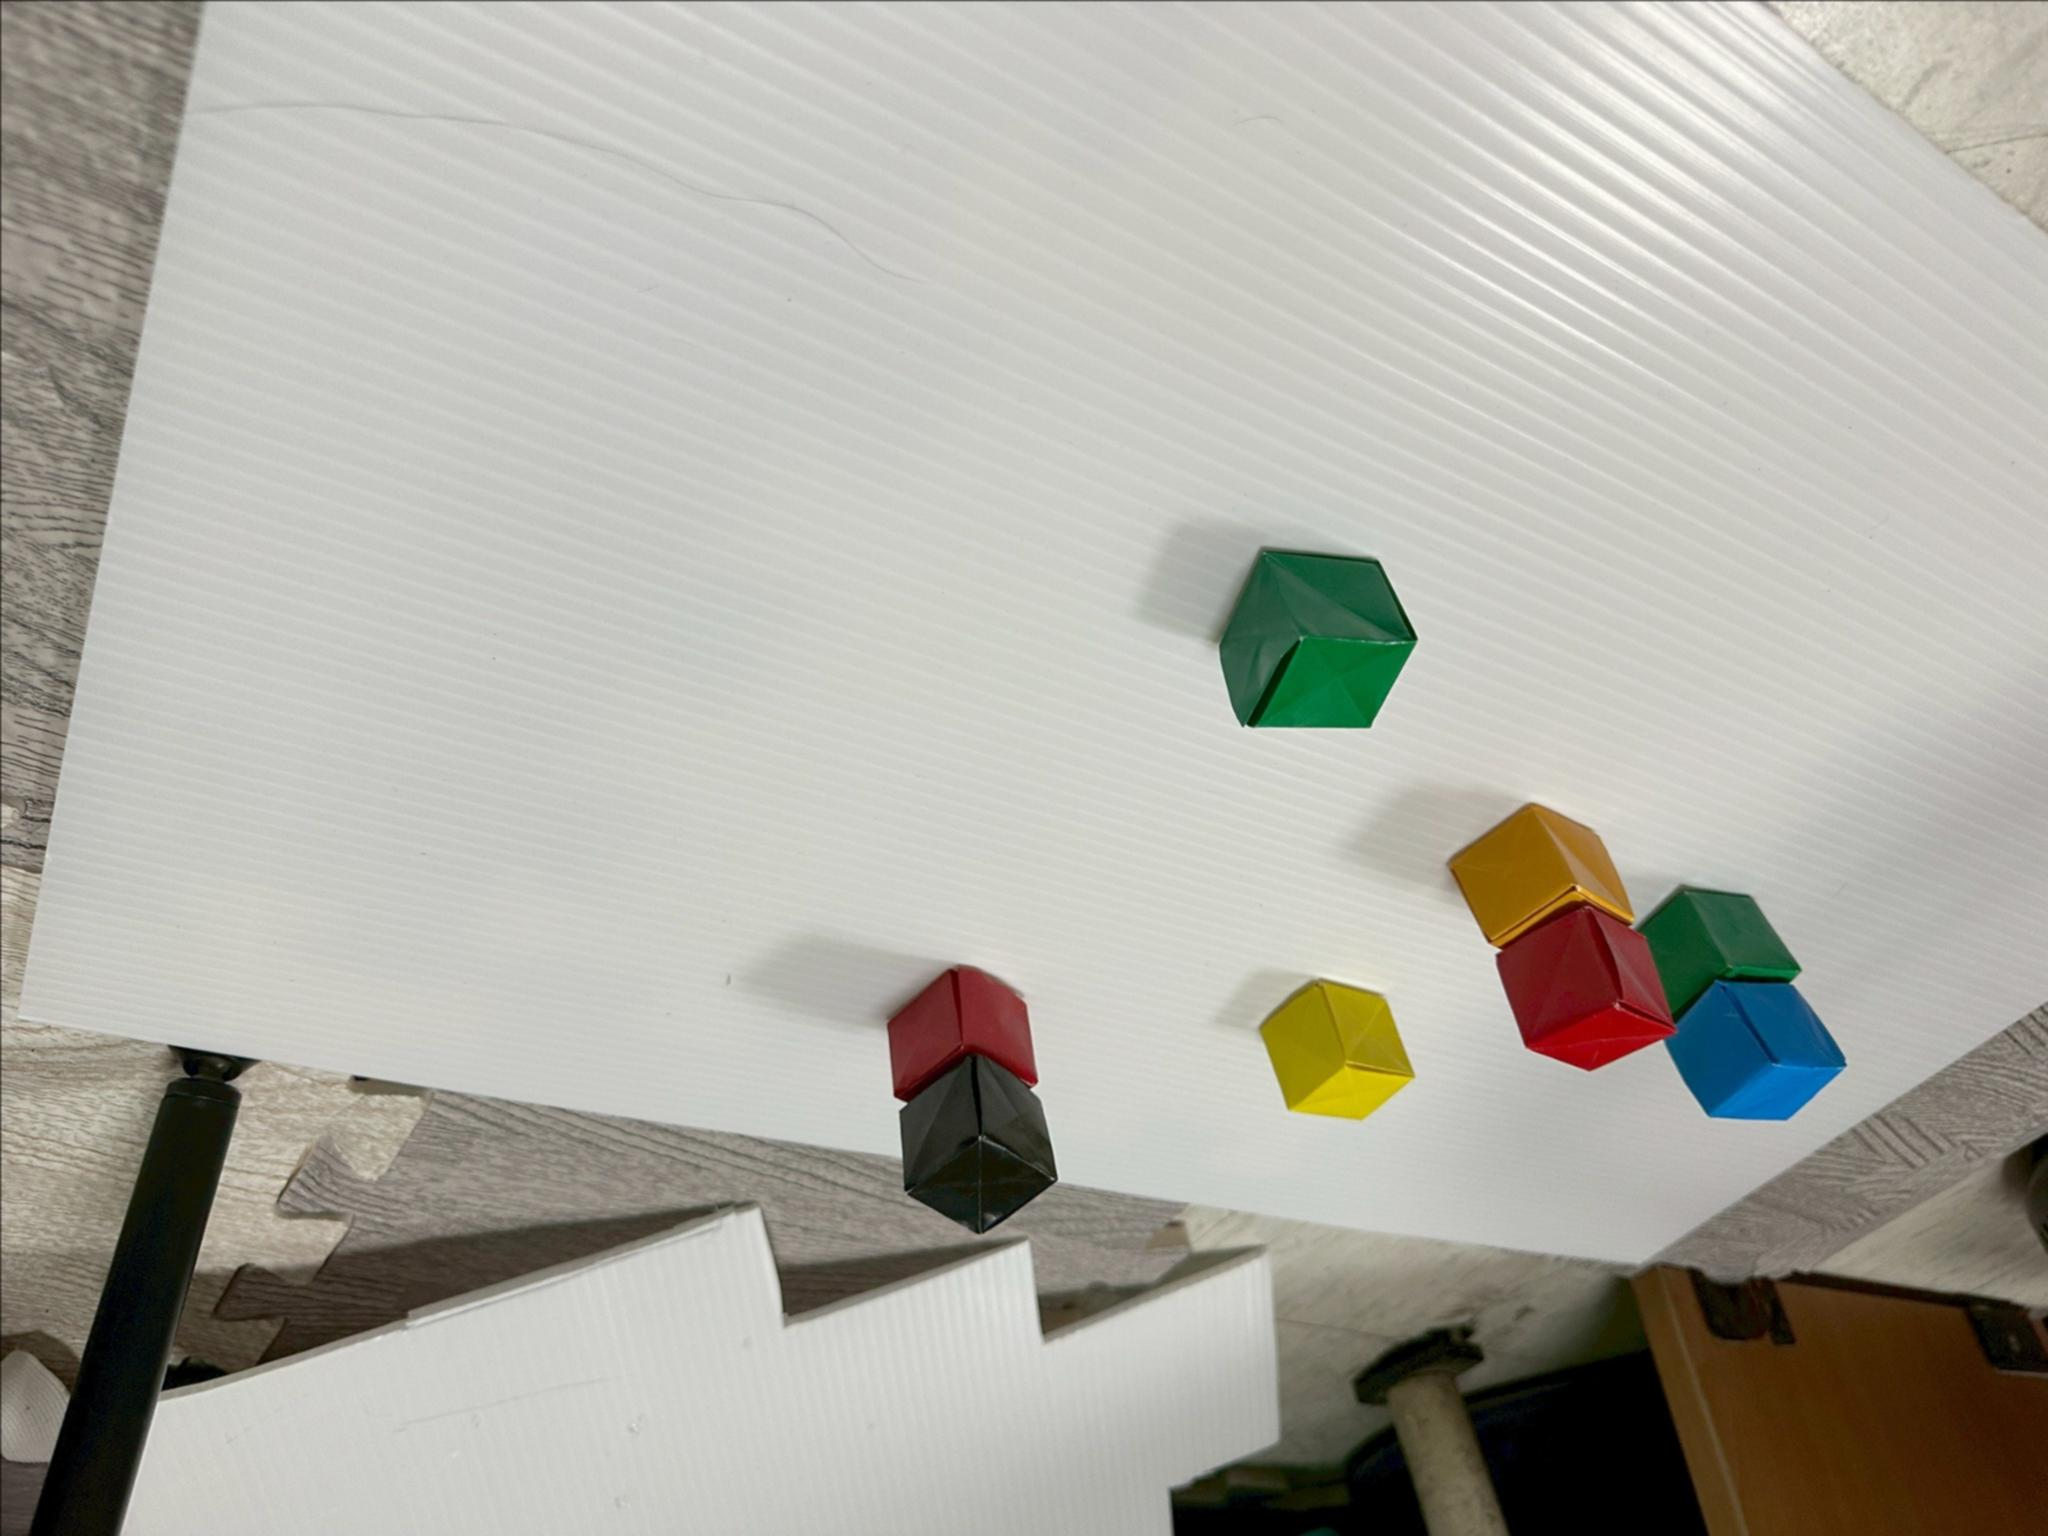cube: (1219, 549, 1416, 726), (1496, 902, 1674, 1070), (900, 1054, 1055, 1233), (1448, 803, 1634, 947), (1666, 979, 1845, 1118), (1259, 979, 1413, 1118), (1638, 889, 1800, 1018), (887, 966, 1037, 1100)
